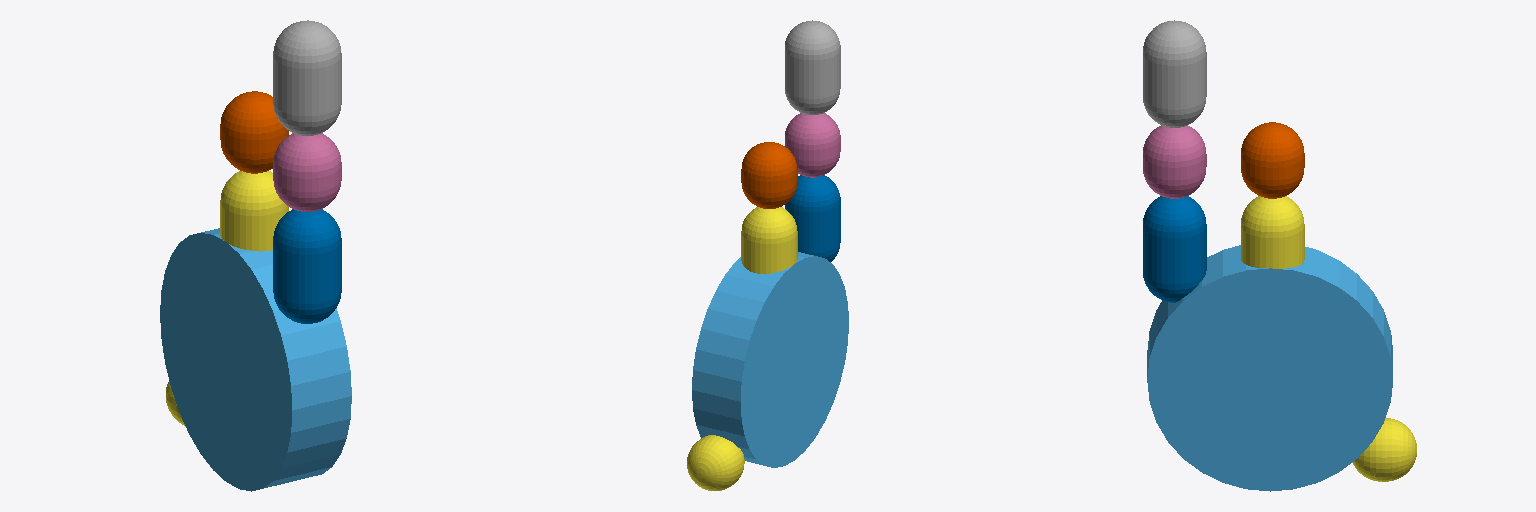
URDF robot description (DexterousHand):
<?xml version="1.0"?>
<robot name="DexterousHand">


    <link name="world"/>
    <joint name="world_to_palm" type="fixed">
        <parent link="world"/>
        <child link="palm"/>
        <origin xyz="0 0 0" rpy="0 0 0"/>
    </joint>
    <link name="palm">
        <inertial>
            <origin xyz="0 0 0.057" rpy="0 0 0"/>
            <mass value="0.30212892864"/>
            <inertia ixx="0.00049080844457568" ixy="0.0" ixz="0.0" iyy="0.00026746366246427523" iyz="0.0" izz="0.00026746366246427523"/>
        </inertial>
        <visual>
            <origin xyz="0 0 0.057" rpy="1.5708 0 1.5708"/>
            <geometry>
                <cylinder radius="0.057" length="0.0296"/>
            </geometry>
            <material name="default"/>
        </visual>
        <collision>
            <origin xyz="0 0 0.057" rpy="1.5708 0 1.5708"/>
            <geometry>
                <cylinder radius="0.057" length="0.0296"/>
            </geometry>
        </collision>
    </link>

    
    <joint name="thumb_joint1" type="revolute">
        <parent link="palm"/>
        <child link="thumb_base"/>
        <origin xyz="0.0029 0.0368 0.0157" rpy="-1.5708 -1.5708 0.0"/>
        <axis xyz="-1 0 0"/>
        <limit lower="-0.349" upper="2.094" effort="1.0" velocity="1.0"/>
    </joint>

    <link name="thumb_base"></link>

    <joint name="thumb_joint2" type="revolute">
        <parent link="thumb_base"/>
        <child link="thumb_proximal"/>
        <origin xyz="0.0 0.0 0.0" rpy="0.0 0.0 0.0"/>
        <axis xyz="0 0 1"/>
        <limit lower="-0.47" upper="2.443" effort="1.0" velocity="1.0"/>
    </joint>

    <link name="thumb_proximal">
        <inertial>
            <origin xyz="0 0 0.01565" rpy="0 0 0"/>
            <mass value="0.021538658803200002"/>
            <inertia ixx="2.9378910096388167e-06" ixy="0.0" ixz="0.0" 
            iyy="2.9378910096388167e-06" iyz="0.0" izz="2.358913912126464e-06"/>
        </inertial>
        <visual>
            <origin xyz="0 0 0.01565" rpy="0 0 0"/>
            <geometry>
                <cylinder radius="0.0148" length="0.0017000000000000001"/>
            </geometry>
            <material name="default"/>
        </visual>
        <visual>
            <origin xyz="0 0 0.0148" rpy="0 0 0"/>
            <geometry>
                <sphere radius="0.0148"/>
            </geometry>
            <material name="default"/>
        </visual>
        <visual>
            <origin xyz="0 0 0.0165" rpy="0 0 0"/>
            <geometry>
                <sphere radius="0.0148"/>
            </geometry>
            <material name="default"/>
        </visual>
        <collision>
            <origin xyz="0 0 0.01565" rpy="0 0 0"/>
            <geometry>
                <cylinder radius="0.0148" length="0.0017000000000000001"/>
            </geometry>
        </collision>
        <collision>
            <origin xyz="0 0 0.0148" rpy="0 0 0"/>
            <geometry>
                <sphere radius="0.0148"/>
            </geometry>
        </collision>
        <collision>
            <origin xyz="0 0 0.0165" rpy="0 0 0"/>
            <geometry>
                <sphere radius="0.0148"/>
            </geometry>
        </collision>
    </link>

    <joint name="thumb_joint3" type="revolute">
        <parent link="thumb_proximal"/>
        <child link="thumb_knuckle"/>
        <origin xyz="0.0 0.0 0.0" rpy="0.0 0.0 0.0"/>
        <axis xyz="1 0 0"/>
        <limit lower="0.0" upper="0.0" effort="1.0" velocity="1.0"/>
    </joint>

    <link name="thumb_knuckle"></link>

    <joint name="thumb_joint4" type="revolute">
        <parent link="thumb_knuckle"/>
        <child link="thumb_middle"/>
        <origin xyz="0 0 0" rpy="0 0 0"/> 
        <axis xyz="0 1 0"/>
        <limit lower="0.0" upper="0.0" effort="1.0" velocity="1.0"/>
    </joint>

    <link name="thumb_middle">
    </link>

    <joint name="thumb_joint5" type="revolute">
        <parent link="thumb_middle"/>
        <child link="thumb_distal"/>
        <origin xyz="0 0 0" rpy="0 0 0"/> 
        <axis xyz="0 1 0"/>
        <limit lower="0.0" upper="0.0" effort="1.0" velocity="1.0"/>
    </joint>

    <link name="thumb_distal">
    </link>

    
    <joint name="index_joint1" type="revolute">
        <parent link="palm"/>
        <child link="index_proximal"/>
        <origin xyz="0.0 0.0 0.0" rpy="0.0 0.0 0.0"/>
        <axis xyz="1 0 0"/>
        <limit lower="0.0" upper="0.0" effort="1.0" velocity="1.0"/>
    </joint>

    <link name="index_proximal">
    </link>

    <joint name="index_joint2" type="revolute">
        <parent link="index_proximal"/>
        <child link="index_dummy"/>
        <origin xyz="0.0 0.0 0.0" rpy="0.0 0.0 0.0"/>
        <axis xyz="0 1 0"/>
        <limit lower="0.0" upper="0.0" effort="1.0" velocity="1.0"/>
    </joint>

    <link name="index_dummy"></link>

    <joint name="index_joint3" type="revolute">
        <parent link="index_dummy"/>
        <child link="index_middle"/>
        <origin xyz="0 0 0" rpy="0 0 0"/>
        <axis xyz="0 1 0"/>
        <limit lower="0.0" upper="0.0" effort="1.0" velocity="1.0"/>
    </joint>

    <link name="index_middle">
    </link>

    <joint name="index_joint4" type="revolute">
        <parent link="index_middle"/>
        <child link="index_distal"/>
        <origin xyz="0 0 0" rpy="0 0 0"/> 
        <axis xyz="0 1 0"/>
        <limit lower="0.0" upper="0.0" effort="1.0" velocity="1.0"/>
    </joint>

    <link name="index_distal">
    </link>

    
    <joint name="middle_joint1" type="revolute">
        <parent link="palm"/>
        <child link="middle_proximal"/>
        <origin xyz="0.0 0.0011 0.091" rpy="0.0 0.0 0.0"/>
        <axis xyz="0 1 0"/>
        <limit lower="-0.314" upper="2.23" effort="1.0" velocity="1.0"/>
    </joint>

    <link name="middle_proximal">
        <inertial>
            <origin xyz="0 0 0.02655" rpy="0 0 0"/>
            <mass value="0.036540024998400006"/>
            <inertia ixx="1.058665009272394e-05" ixy="0.0" ixz="0.0" 
            iyy="1.058665009272394e-05" iyz="0.0" izz="4.001863537824769e-06"/>
        </inertial>
        <visual>
            <origin xyz="0 0 0.02655" rpy="0 0 0"/>
            <geometry>
                <cylinder radius="0.0148" length="0.0235"/>
            </geometry>
            <material name="default"/>
        </visual>
        <visual>
            <origin xyz="0 0 0.0148" rpy="0 0 0"/>
            <geometry>
                <sphere radius="0.0148"/>
            </geometry>
            <material name="default"/>
        </visual>
        <visual>
            <origin xyz="0 0 0.0383" rpy="0 0 0"/>
            <geometry>
                <sphere radius="0.0148"/>
            </geometry>
            <material name="default"/>
        </visual>
        <collision>
            <origin xyz="0 0 0.02655" rpy="0 0 0"/>
            <geometry>
                <cylinder radius="0.0148" length="0.0235"/>
            </geometry>
        </collision>
        <collision>
            <origin xyz="0 0 0.0148" rpy="0 0 0"/>
            <geometry>
                <sphere radius="0.0148"/>
            </geometry>
        </collision>
        <collision>
            <origin xyz="0 0 0.0383" rpy="0 0 0"/>
            <geometry>
                <sphere radius="0.0148"/>
            </geometry>
        </collision>
    </link>

    <joint name="middle_joint2" type="revolute">
        <parent link="middle_proximal"/>
        <child link="middle_dummy"/>
        <origin xyz="0.0 0.0 0.038" rpy="0.0 0.0 0.0"/>
        <axis xyz="1 0 0"/>
        <limit lower="-1.047" upper="1.047" effort="1.0" velocity="1.0"/>
    </joint>

    <link name="middle_dummy"></link>

    <joint name="middle_joint3" type="revolute">
        <parent link="middle_dummy"/>
        <child link="middle_middle"/>
        <origin xyz="0 0 0.015100000000000002" rpy="0 0 0"/>
        <axis xyz="0 1 0"/>
        <limit lower="-0.506" upper="1.885" effort="1.0" velocity="1.0"/>
    </joint>

    <link name="middle_middle">
        <inertial>
            <origin xyz="0 0 0.01805" rpy="0 0 0"/>
            <mass value="0.0248417119104"/>
            <inertia ixx="4.058162759109537e-06" ixy="0.0" ixz="0.0" 
            iyy="4.058162759109537e-06" iyz="0.0" izz="2.7206642884270085e-06"/>
        </inertial>
        <visual>
            <origin xyz="0 0 0.01805" rpy="0 0 0"/>
            <geometry>
                <cylinder radius="0.0148" length="0.006499999999999999"/>
            </geometry>
            <material name="default"/>
        </visual>
        <visual>
            <origin xyz="0 0 0.0148" rpy="0 0 0"/>
            <geometry>
                <sphere radius="0.0148"/>
            </geometry>
            <material name="default"/>
        </visual>
        <visual>
            <origin xyz="0 0 0.0213" rpy="0 0 0"/>
            <geometry>
                <sphere radius="0.0148"/>
            </geometry>
            <material name="default"/>
        </visual>
        <collision>
            <origin xyz="0 0 0.01805" rpy="0 0 0"/>
            <geometry>
                <cylinder radius="0.0148" length="0.006499999999999999"/>
            </geometry>
        </collision>
        <collision>
            <origin xyz="0 0 0.0148" rpy="0 0 0"/>
            <geometry>
                <sphere radius="0.0148"/>
            </geometry>
        </collision>
        <collision>
            <origin xyz="0 0 0.0213" rpy="0 0 0"/>
            <geometry>
                <sphere radius="0.0148"/>
            </geometry>
        </collision>
    </link>

    <joint name="middle_joint4" type="revolute">
        <parent link="middle_middle"/>
        <child link="middle_distal"/>
        <origin xyz="0 0 0.0361" rpy="0 0 0"/> 
        <axis xyz="0 1 0"/>
        <limit lower="0.0" upper="0.0" effort="1.0" velocity="1.0"/>
    </joint>

    <link name="middle_distal">
    </link>

    
    <joint name="ring_joint1" type="revolute">
        <parent link="palm"/>
        <child link="ring_proximal"/>
        <origin xyz="0.0 0.0 0.0" rpy="0.0 0.0 0.0"/>
        <axis xyz="1 0 0"/>
        <limit lower="0.0" upper="0.0" effort="1.0" velocity="1.0"/>
    </joint>

    <link name="ring_proximal">
    </link>

    <joint name="ring_joint2" type="revolute">
        <parent link="ring_proximal"/>
        <child link="ring_dummy"/>
        <origin xyz="0.0 0.0 0.0" rpy="0.0 0.0 0.0"/>
        <axis xyz="0 1 0"/>
        <limit lower="0.0" upper="0.0" effort="1.0" velocity="1.0"/>
    </joint>

    <link name="ring_dummy"></link>

    <joint name="ring_joint3" type="revolute">
        <parent link="ring_dummy"/>
        <child link="ring_middle"/>
        <origin xyz="0 0 0" rpy="0 0 0"/>
        <axis xyz="0 1 0"/>
        <limit lower="0.0" upper="0.0" effort="1.0" velocity="1.0"/>
    </joint>

    <link name="ring_middle">
    </link>

    <joint name="ring_joint4" type="revolute">
        <parent link="ring_middle"/>
        <child link="ring_distal"/>
        <origin xyz="0 0 0" rpy="0 0 0"/> 
        <axis xyz="0 1 0"/>
        <limit lower="0.0" upper="0.0" effort="1.0" velocity="1.0"/>
    </joint>

    <link name="ring_distal">
    </link>

    
    <joint name="little_joint0" type="revolute">
        <parent link="palm"/>
        <child link="little_base"/>
        <origin xyz="0.0 0.0 0.0" rpy="0.0 0.0 0.0"/>
        <axis xyz="0 1 0"/>
        <limit lower="0.0" upper="0.0" effort="1.0" velocity="1.0"/>
    </joint>

    <link name="little_base"></link>

    <joint name="little_joint1" type="revolute">
        <parent link="little_base"/>
        <child link="little_proximal"/>
        <origin xyz="0.0 -0.0443 0.091" rpy="-0.0 -0.0 -0.0"/>
        <axis xyz="0 1 0"/>
        <limit lower="-0.314" upper="2.23" effort="1.0" velocity="1.0"/>
    </joint>

    <link name="little_proximal">
        <inertial>
            <origin xyz="0 0 0.02655" rpy="0 0 0"/>
            <mass value="0.036540024998400006"/>
            <inertia ixx="1.058665009272394e-05" ixy="0.0" ixz="0.0" 
            iyy="1.058665009272394e-05" iyz="0.0" izz="4.001863537824769e-06"/>
        </inertial>
        <visual>
            <origin xyz="0 0 0.02655" rpy="0 0 0"/>
            <geometry>
                <cylinder radius="0.0148" length="0.0235"/>
            </geometry>
            <material name="default"/>
        </visual>
        <visual>
            <origin xyz="0 0 0.0148" rpy="0 0 0"/>
            <geometry>
                <sphere radius="0.0148"/>
            </geometry>
            <material name="default"/>
        </visual>
        <visual>
            <origin xyz="0 0 0.0383" rpy="0 0 0"/>
            <geometry>
                <sphere radius="0.0148"/>
            </geometry>
            <material name="default"/>
        </visual>
        <collision>
            <origin xyz="0 0 0.02655" rpy="0 0 0"/>
            <geometry>
                <cylinder radius="0.0148" length="0.0235"/>
            </geometry>
        </collision>
        <collision>
            <origin xyz="0 0 0.0148" rpy="0 0 0"/>
            <geometry>
                <sphere radius="0.0148"/>
            </geometry>
        </collision>
        <collision>
            <origin xyz="0 0 0.0383" rpy="0 0 0"/>
            <geometry>
                <sphere radius="0.0148"/>
            </geometry>
        </collision>
    </link>

    <joint name="little_joint2" type="revolute">
        <parent link="little_proximal"/>
        <child link="little_dummy"/>
        <origin xyz="0.0 0.0 0.038" rpy="0.0 0.0 0.0"/>
        <axis xyz="1 0 0"/>
        <limit lower="-1.047" upper="1.047" effort="1.0" velocity="1.0"/>
    </joint>

    <link name="little_dummy"></link>

    <joint name="little_joint3" type="revolute">
        <parent link="little_dummy"/>
        <child link="little_middle"/>
        <origin xyz="0 0 0.015100000000000002" rpy="0 0 0"/>
        <axis xyz="0 1 0"/>
        <limit lower="-0.506" upper="1.885" effort="1.0" velocity="1.0"/>
    </joint>

    <link name="little_middle">
        <inertial>
            <origin xyz="0 0 0.01805" rpy="0 0 0"/>
            <mass value="0.0248417119104"/>
            <inertia ixx="4.058162759109537e-06" ixy="0.0" ixz="0.0" 
            iyy="4.058162759109537e-06" iyz="0.0" izz="2.7206642884270085e-06"/>
        </inertial>
        <visual>
            <origin xyz="0 0 0.01805" rpy="0 0 0"/>
            <geometry>
                <cylinder radius="0.0148" length="0.006499999999999999"/>
            </geometry>
            <material name="default"/>
        </visual>
        <visual>
            <origin xyz="0 0 0.0148" rpy="0 0 0"/>
            <geometry>
                <sphere radius="0.0148"/>
            </geometry>
            <material name="default"/>
        </visual>
        <visual>
            <origin xyz="0 0 0.0213" rpy="0 0 0"/>
            <geometry>
                <sphere radius="0.0148"/>
            </geometry>
            <material name="default"/>
        </visual>
        <collision>
            <origin xyz="0 0 0.01805" rpy="0 0 0"/>
            <geometry>
                <cylinder radius="0.0148" length="0.006499999999999999"/>
            </geometry>
        </collision>
        <collision>
            <origin xyz="0 0 0.0148" rpy="0 0 0"/>
            <geometry>
                <sphere radius="0.0148"/>
            </geometry>
        </collision>
        <collision>
            <origin xyz="0 0 0.0213" rpy="0 0 0"/>
            <geometry>
                <sphere radius="0.0148"/>
            </geometry>
        </collision>
    </link>

    <joint name="little_joint4" type="revolute">
        <parent link="little_middle"/>
        <child link="little_distal"/>
        <origin xyz="0 0 0.0361" rpy="0 0 0"/>
        <axis xyz="0 1 0"/>
        <limit lower="-0.366" upper="2.042" effort="1.0" velocity="1.0"/>
    </joint>

    <link name="little_distal">
        <inertial>
            <origin xyz="0 0 0.026" rpy="0 0 0"/>
            <mass value="0.035783075328"/>
            <inertia ixx="1.002260084553728e-05" ixy="0.0" ixz="0.0" 
            iyy="1.002260084553728e-05" iyz="0.0" izz="3.91896240992256e-06"/>
        </inertial>
        <visual>
            <origin xyz="0 0 0.026" rpy="0 0 0"/>
            <geometry>
                <cylinder radius="0.0148" length="0.022399999999999996"/>
            </geometry>
            <material name="default"/>
        </visual>
        <visual>
            <origin xyz="0 0 0.0148" rpy="0 0 0"/>
            <geometry>
                <sphere radius="0.0148"/>
            </geometry>
            <material name="default"/>
        </visual>
        <visual>
            <origin xyz="0 0 0.0372" rpy="0 0 0"/>
            <geometry>
                <sphere radius="0.0148"/>
            </geometry>
            <material name="default"/>
        </visual>
        <collision>
            <origin xyz="0 0 0.026" rpy="0 0 0"/>
            <geometry>
                <cylinder radius="0.0148" length="0.022399999999999996"/>
            </geometry>
        </collision>
        <collision>
            <origin xyz="0 0 0.0148" rpy="0 0 0"/>
            <geometry>
                <sphere radius="0.0148"/>
            </geometry>
        </collision>
        <collision>
            <origin xyz="0 0 0.0372" rpy="0 0 0"/>
            <geometry>
                <sphere radius="0.0148"/>
            </geometry>
        </collision>
    </link>

</robot>

--- What the picture shows (computed from the rendered views, not written in the file) ---
The picture shows the robot from 3 angles, left to right: view 1: azimuth 30°, elevation 25°; view 2: azimuth 150°, elevation 25°; view 3: azimuth 270°, elevation 25°; orthographic projection.
Robot: DexterousHand — 24 links, 23 joints (22 revolute, 1 fixed); root link world; default pose: all joints at 0.
Links seen in each view (by area): view 1: palm, little_proximal, little_distal, little_middle, middle_proximal, middle_middle; view 2: palm, little_distal, little_proximal, middle_proximal, middle_middle, little_middle, thumb_proximal; view 3: palm, little_distal, little_proximal, middle_proximal, middle_middle, little_middle, thumb_proximal.
Link boxes in pixels (<box>): palm: <box>160,228,351,491</box>; little_proximal: <box>273,209,341,323</box>; little_distal: <box>273,20,341,135</box>; little_middle: <box>273,133,341,211</box>; middle_proximal: <box>220,171,288,251</box>; middle_middle: <box>220,91,288,173</box>; palm: <box>692,252,848,467</box>; little_distal: <box>785,20,840,114</box>; little_proximal: <box>785,175,840,261</box>; middle_proximal: <box>741,207,797,273</box>; middle_middle: <box>741,142,797,208</box>; little_middle: <box>785,113,840,177</box>; thumb_proximal: <box>687,435,744,490</box>; palm: <box>1147,245,1392,491</box>; little_distal: <box>1143,20,1206,127</box>; little_proximal: <box>1143,196,1206,302</box>; middle_proximal: <box>1241,196,1304,268</box>; middle_middle: <box>1241,122,1304,198</box>; little_middle: <box>1143,125,1206,198</box>; thumb_proximal: <box>1352,418,1416,481</box>.
Size in the robot's own frame: 0.0325 by 0.1272 by 0.2322 metres.
Geometry: primitives only (box / cylinder / sphere), no mesh files.
